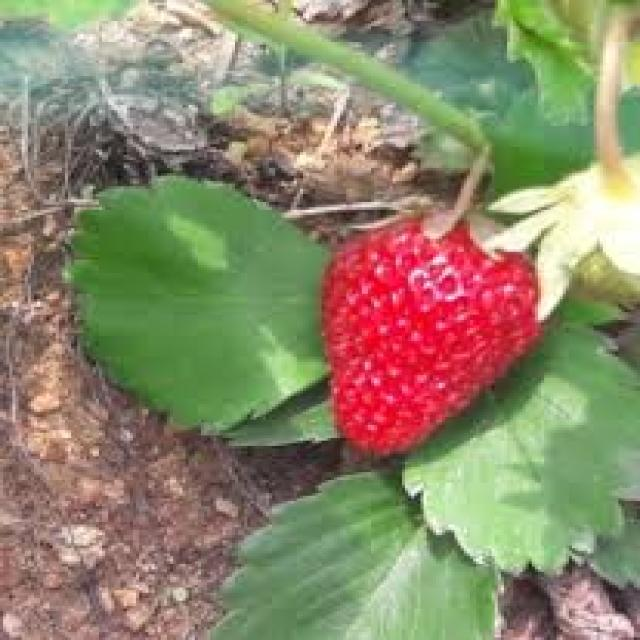mature: (320, 210, 550, 457)
